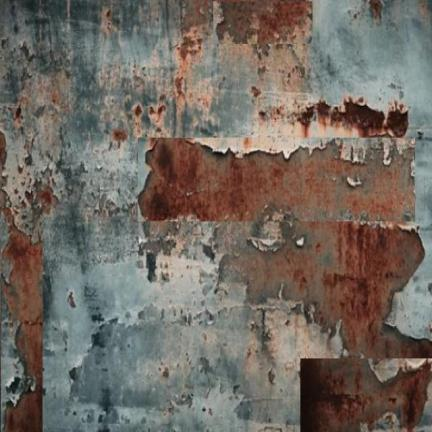besi_tidak_karat: (308, 0, 431, 139)
karat: (140, 140, 431, 355), (3, 223, 42, 431), (214, 0, 312, 45), (298, 99, 408, 137)
